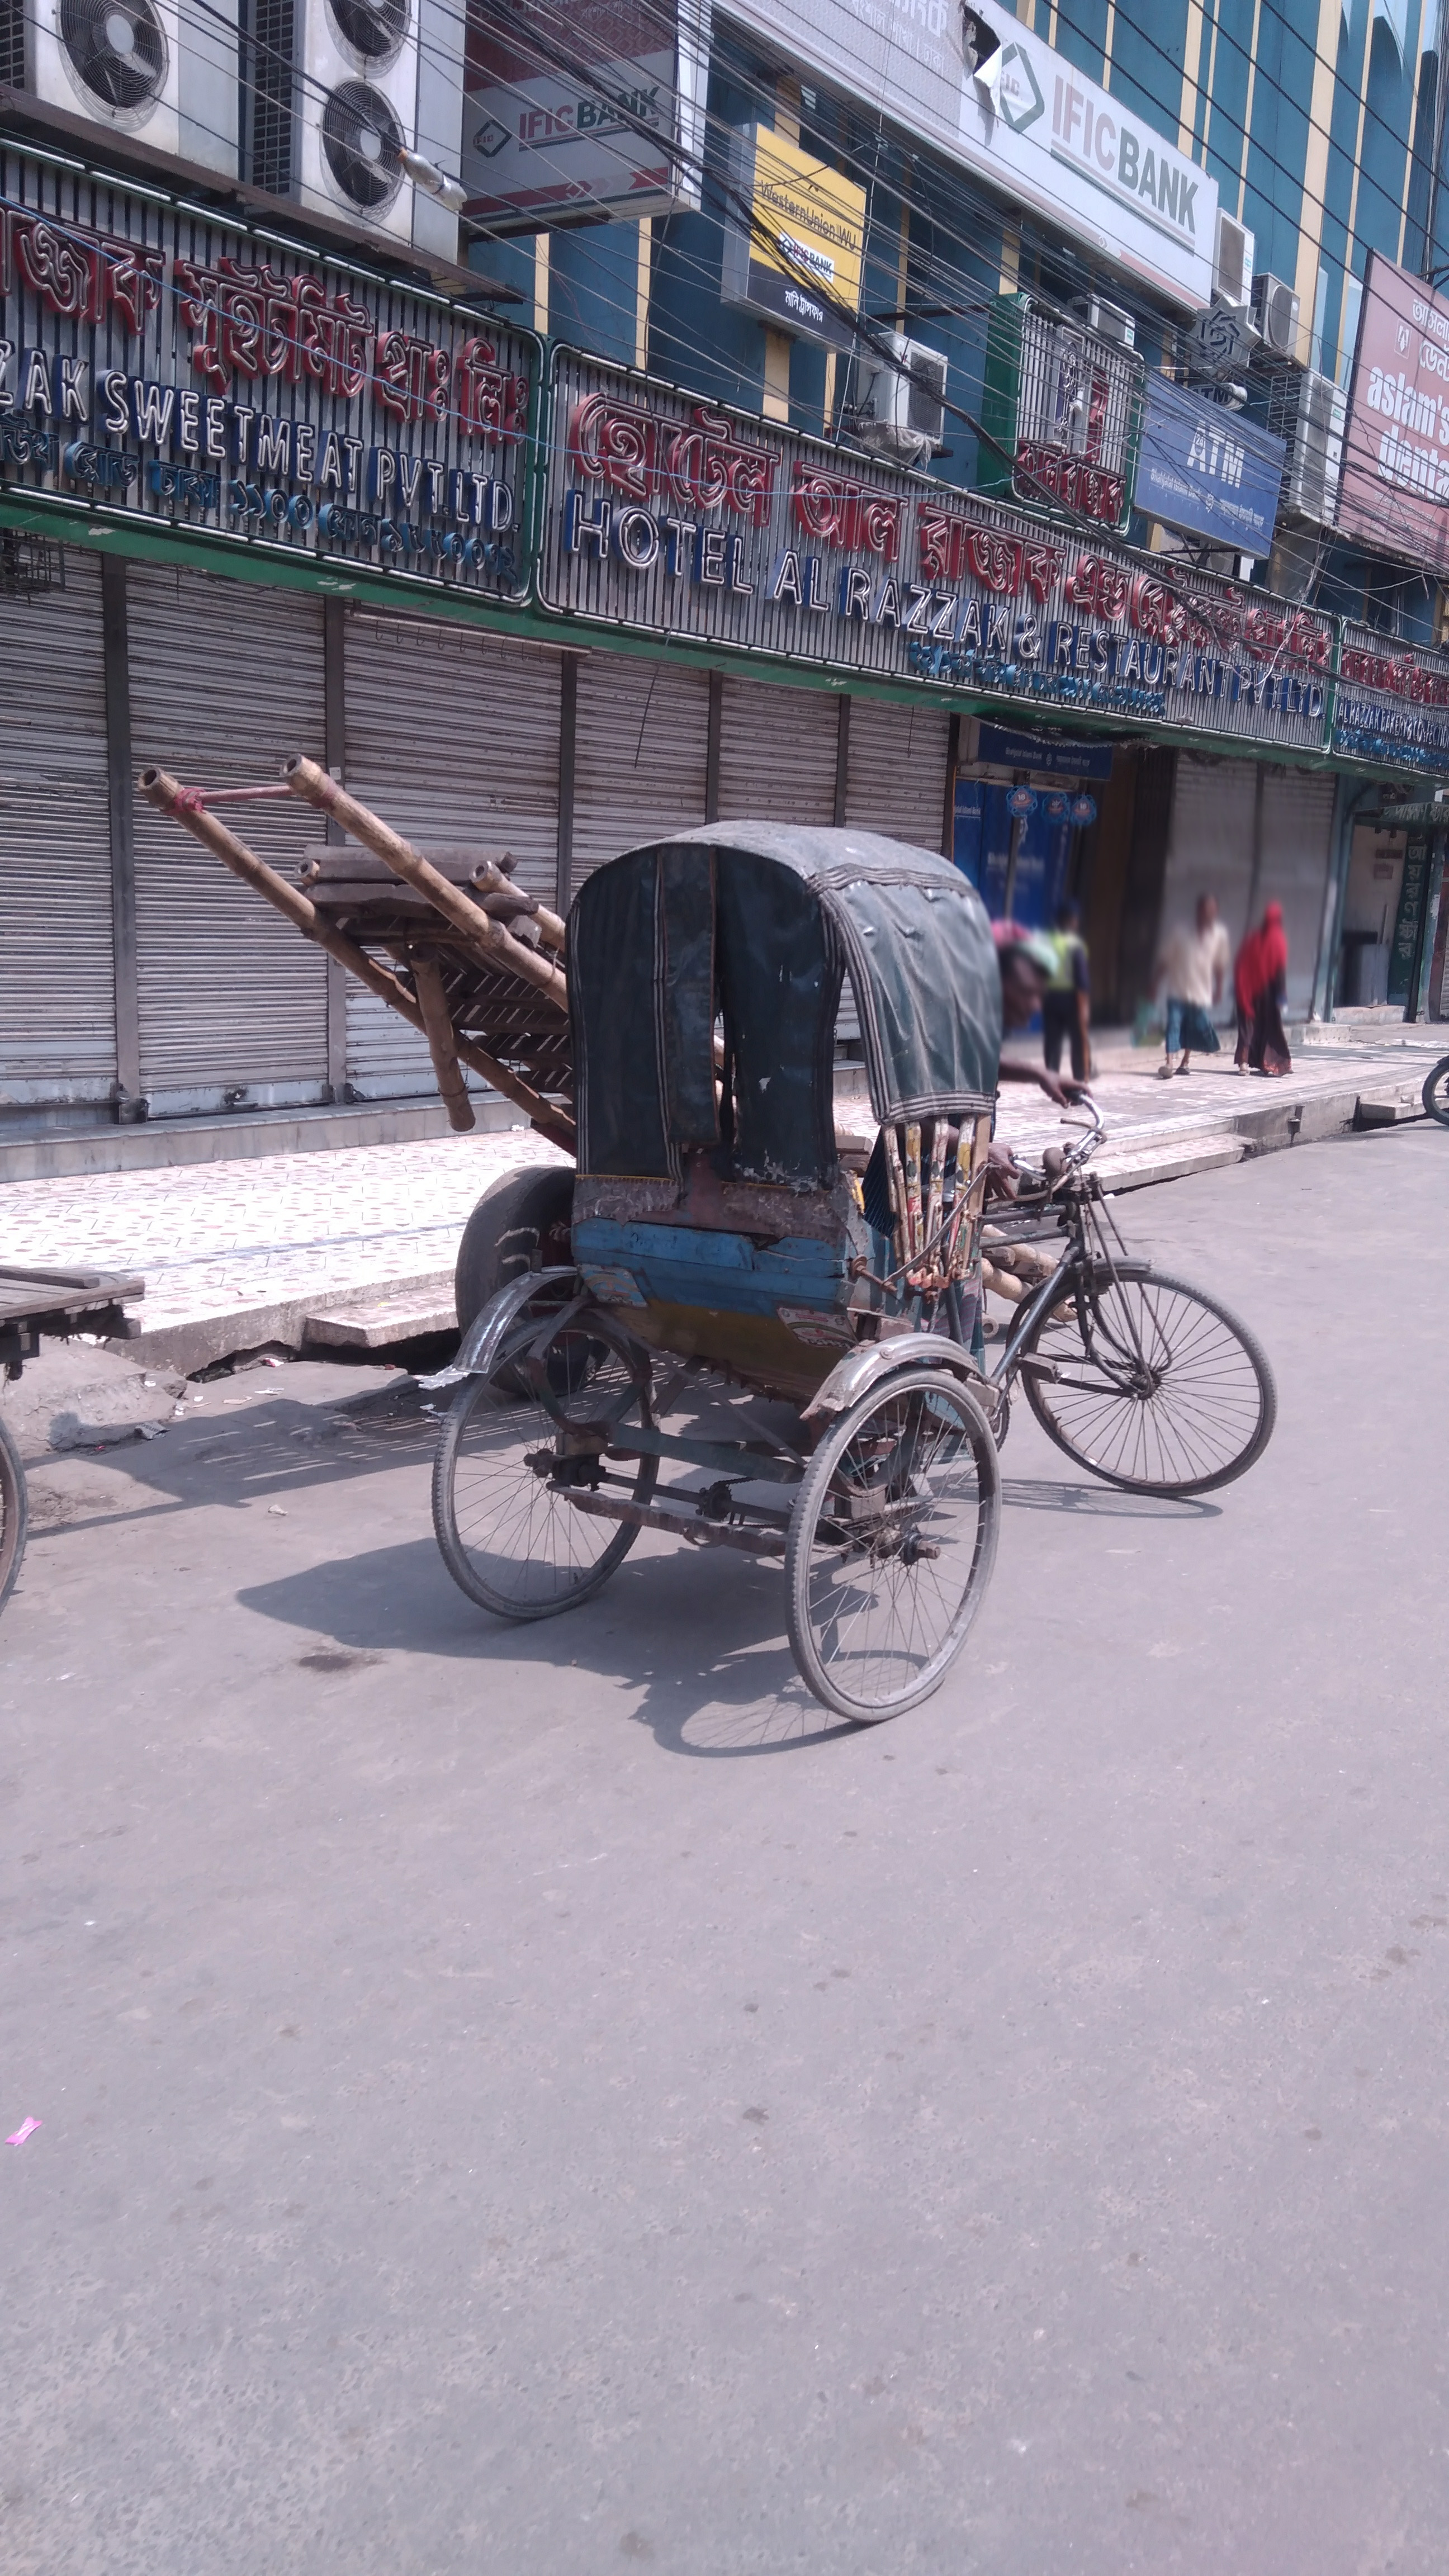rickshaw: (398, 824, 1304, 1769)
wheelbarrow: (129, 736, 734, 1394)
